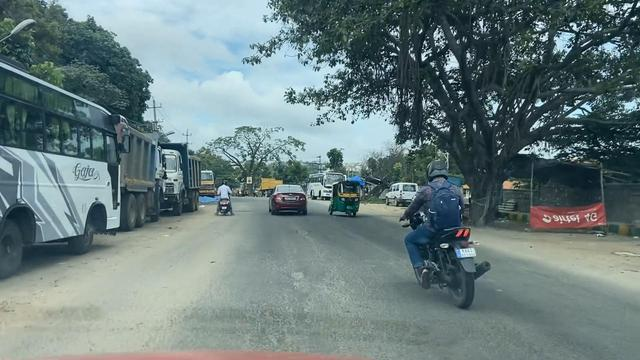HMV: (0, 52, 138, 283), (160, 136, 198, 216), (373, 178, 417, 208), (245, 173, 276, 198)
LMV: (388, 139, 516, 324), (256, 176, 321, 236), (327, 176, 366, 219), (206, 168, 236, 223)
RoadDamages: (272, 254, 337, 294), (287, 221, 320, 244)
